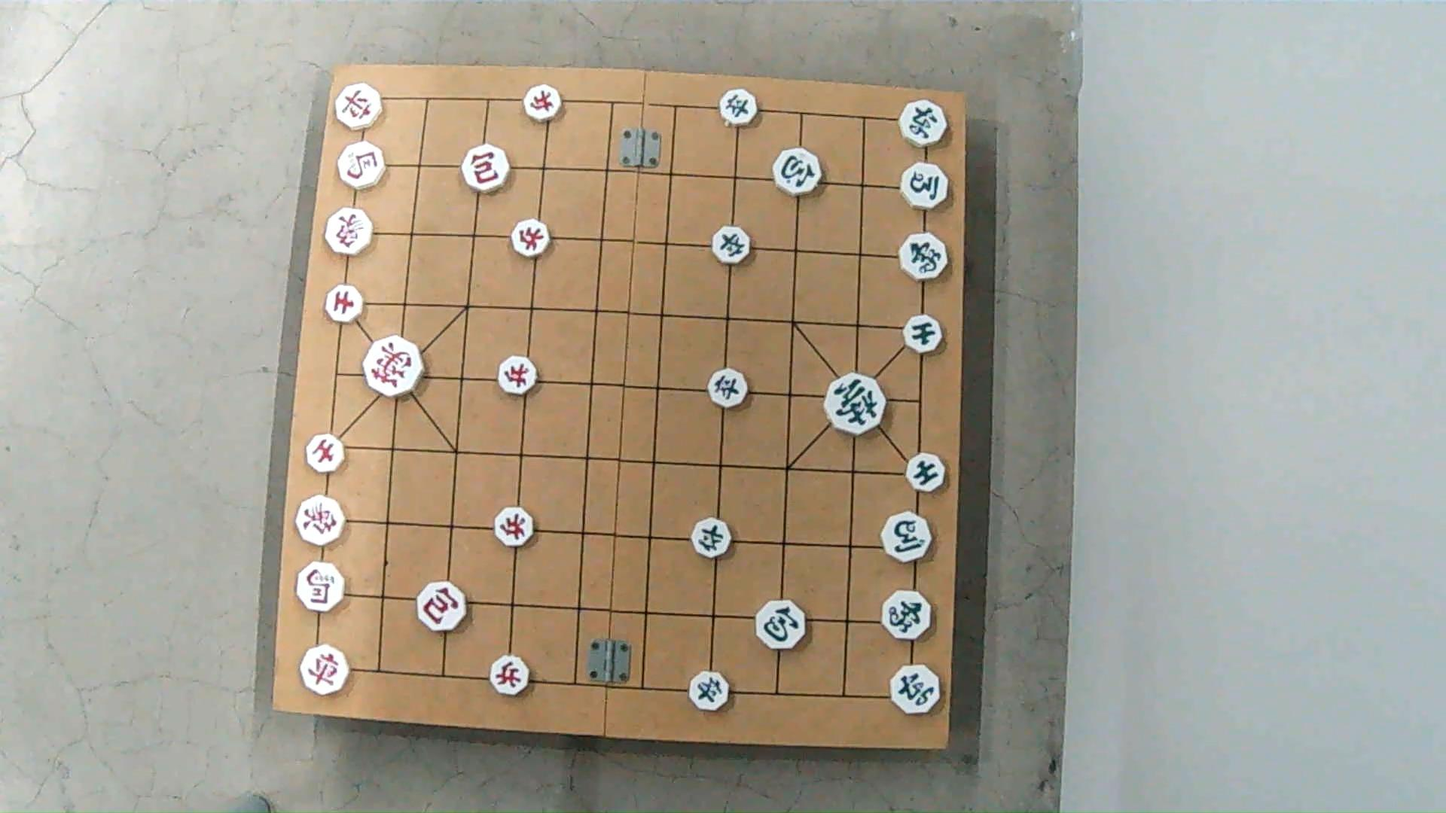cha_green: (888, 666, 944, 712), (899, 102, 951, 146)
cha_red: (333, 85, 387, 131), (301, 648, 352, 695)
jol_green: (690, 673, 735, 709), (707, 369, 752, 404), (691, 521, 736, 556), (712, 227, 755, 261), (718, 91, 759, 124)
jol_red: (485, 658, 529, 695), (491, 511, 535, 547), (495, 358, 538, 393), (513, 222, 555, 256), (525, 87, 565, 120)
ma_green: (879, 514, 932, 561), (898, 164, 950, 209)
ma_red: (296, 564, 345, 611), (335, 146, 386, 190)
po_green: (756, 601, 810, 647), (774, 149, 825, 193)
po_red: (416, 584, 468, 629), (462, 147, 512, 193)
sa_green: (903, 312, 944, 355), (903, 454, 947, 489)
sa_red: (301, 434, 349, 473), (323, 285, 365, 319)
sang_green: (897, 229, 950, 282), (880, 594, 933, 640)
sang_red: (296, 494, 347, 546), (322, 209, 377, 254)
wang_green: (825, 377, 886, 433)
wang_red: (362, 336, 428, 395)
